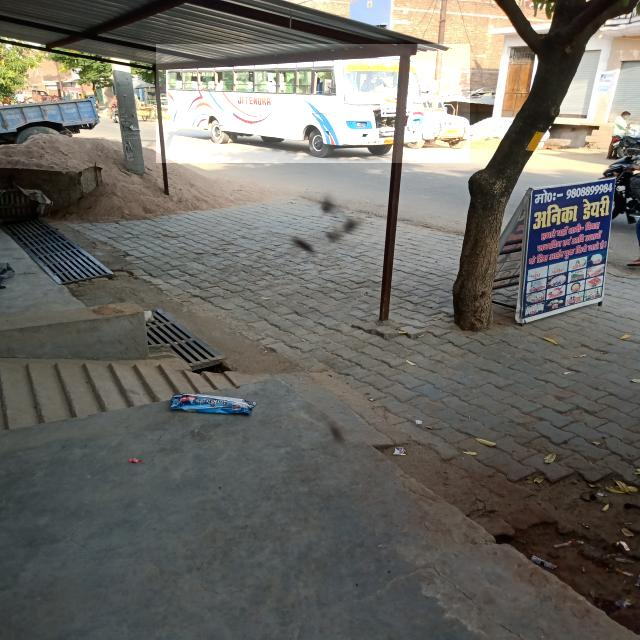Bus: (156, 44, 470, 163)
